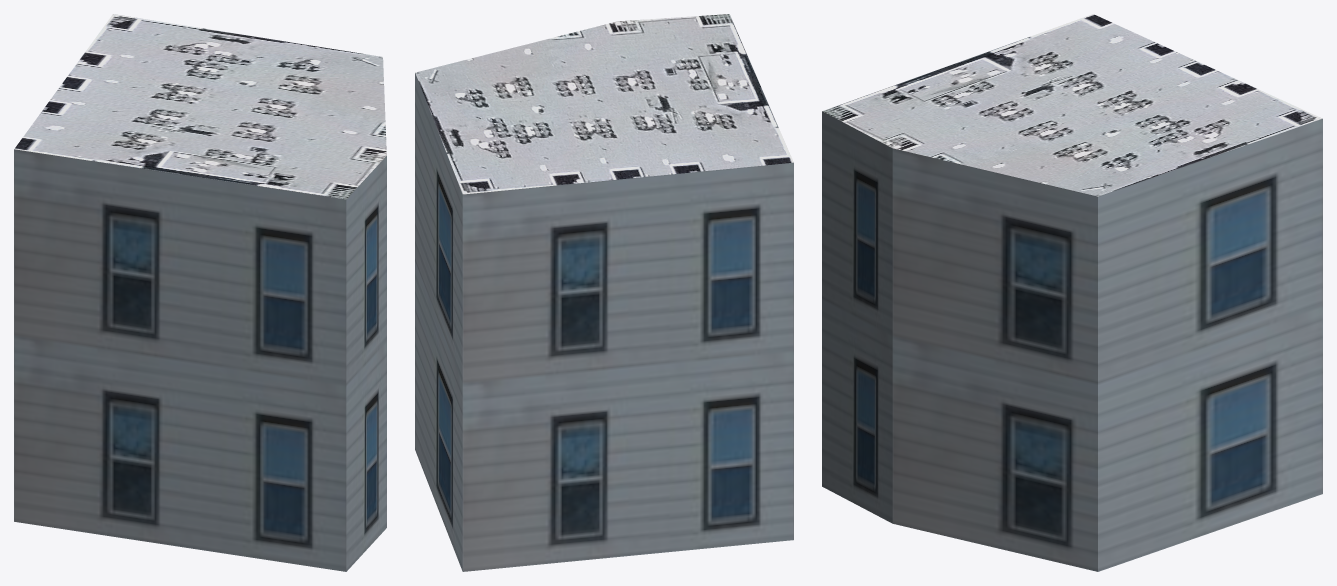
Rendered from ResTex__5313.fbx.
3 views of the same model, side by side, from view 1: azimuth 30°, elevation 25°; view 2: azimuth 150°, elevation 25°; view 3: azimuth 270°, elevation 25° (orthographic).
Visible parts, largest first — view 1: CityEngineMaterial_18_m, CityEngineMaterial_4_m; view 2: CityEngineMaterial_18_m, CityEngineMaterial_4_m; view 3: CityEngineMaterial_18_m, CityEngineMaterial_4_m.
Part boxes in pixels (box(x1,y1,x2,y2)): CityEngineMaterial_18_m: box(14, 149, 386, 571); CityEngineMaterial_4_m: box(14, 14, 386, 199); CityEngineMaterial_18_m: box(415, 73, 793, 571); CityEngineMaterial_4_m: box(415, 14, 793, 194); CityEngineMaterial_18_m: box(822, 111, 1322, 571); CityEngineMaterial_4_m: box(822, 14, 1322, 196).
Bounding box in the file's own units: 6.26 × 6 × 7.25.
Materials: 2 (2 with a texture image).
